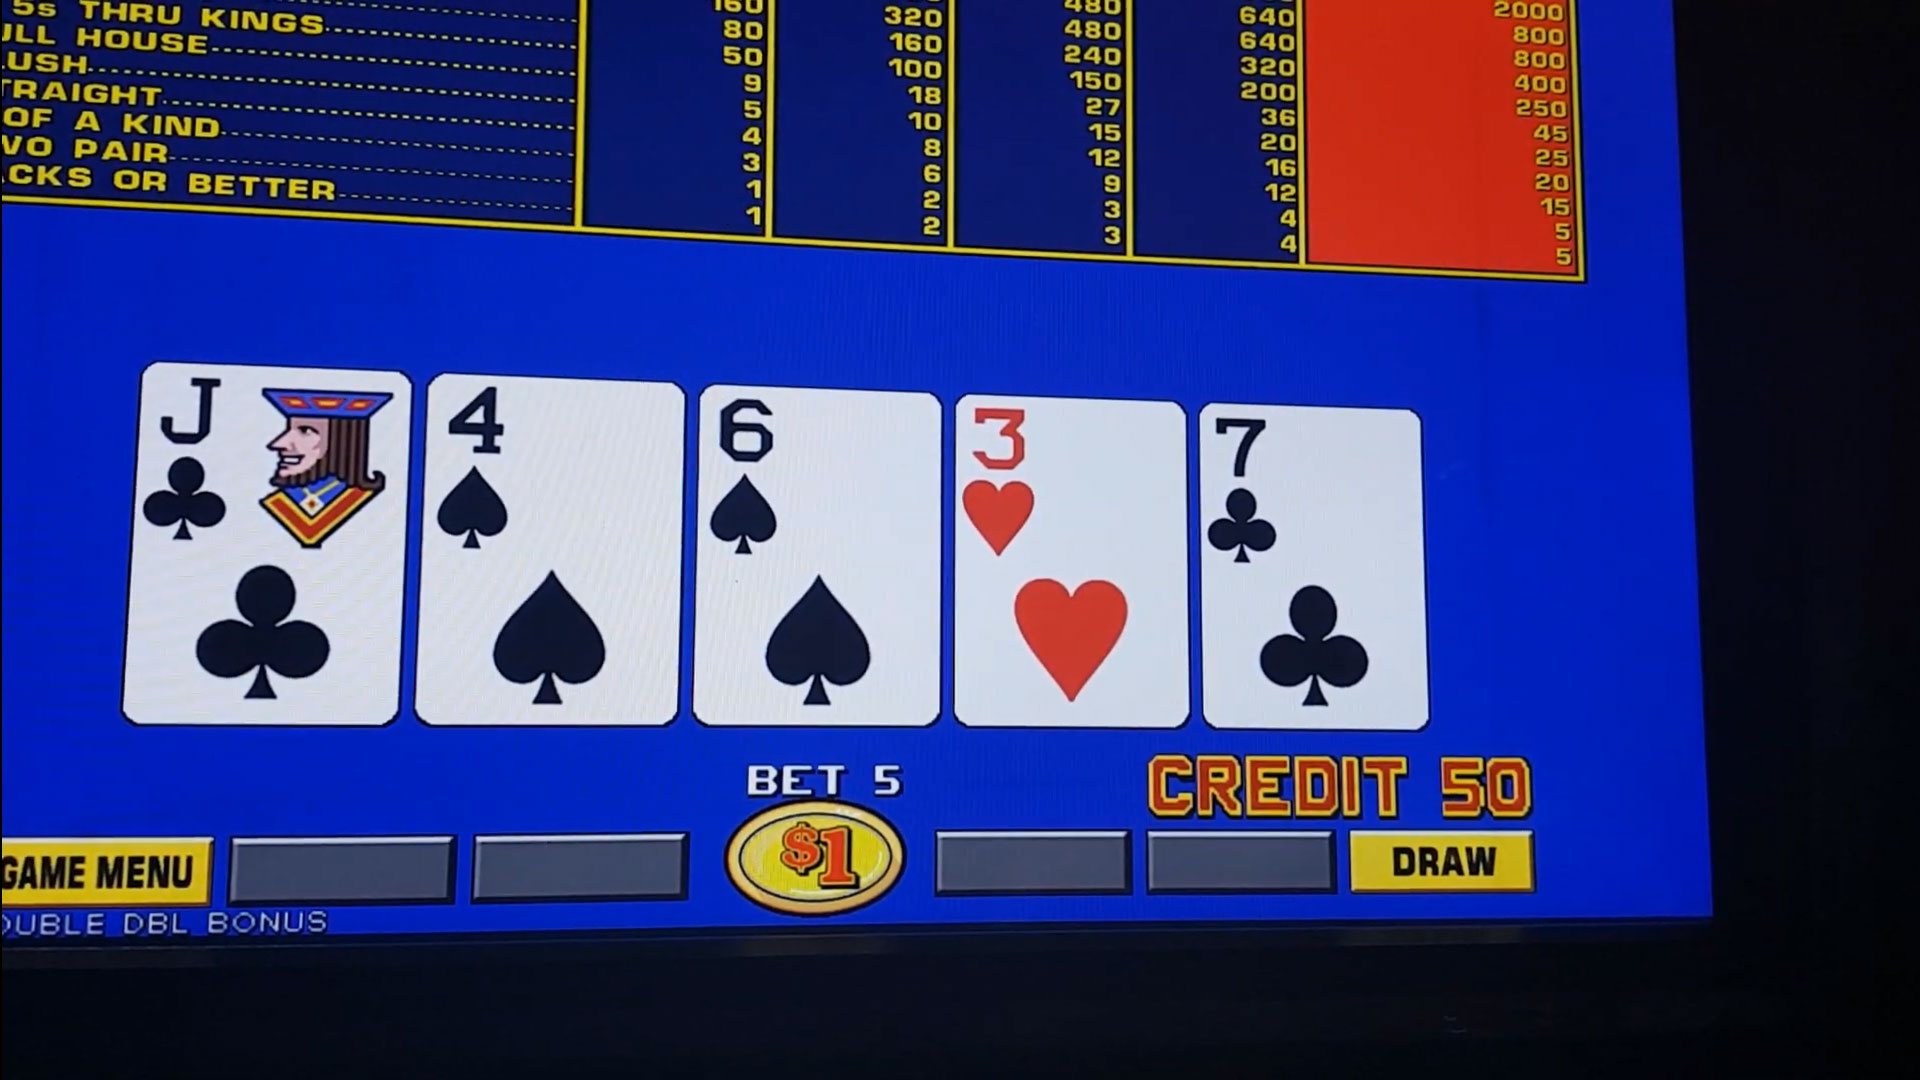C7: (1209, 411, 1414, 578)
CJ: (145, 377, 406, 568)
H3: (957, 404, 1182, 580)
S4: (430, 385, 684, 563)
S6: (702, 396, 938, 567)
